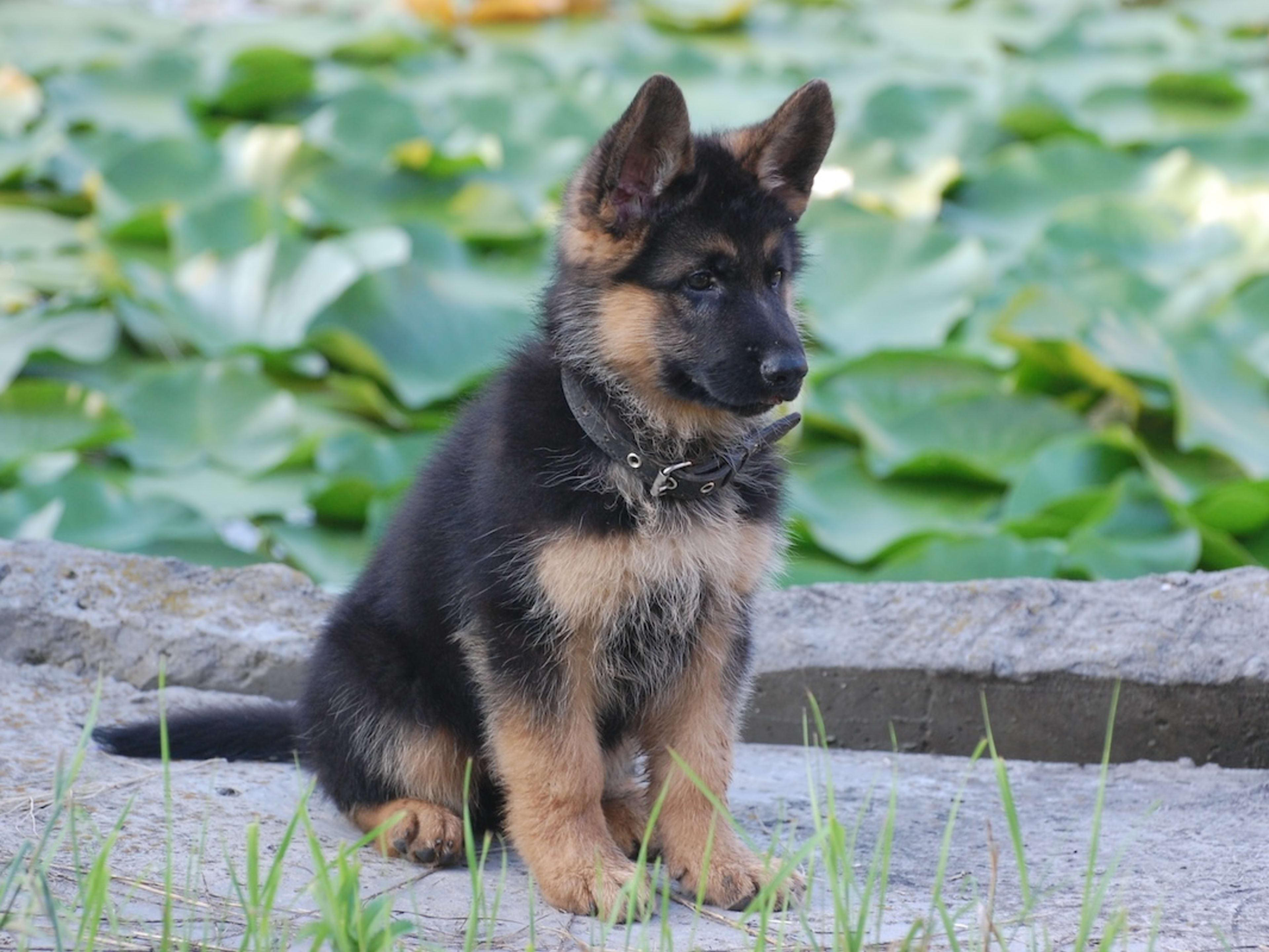german_shepherd: (557, 106, 868, 437)
